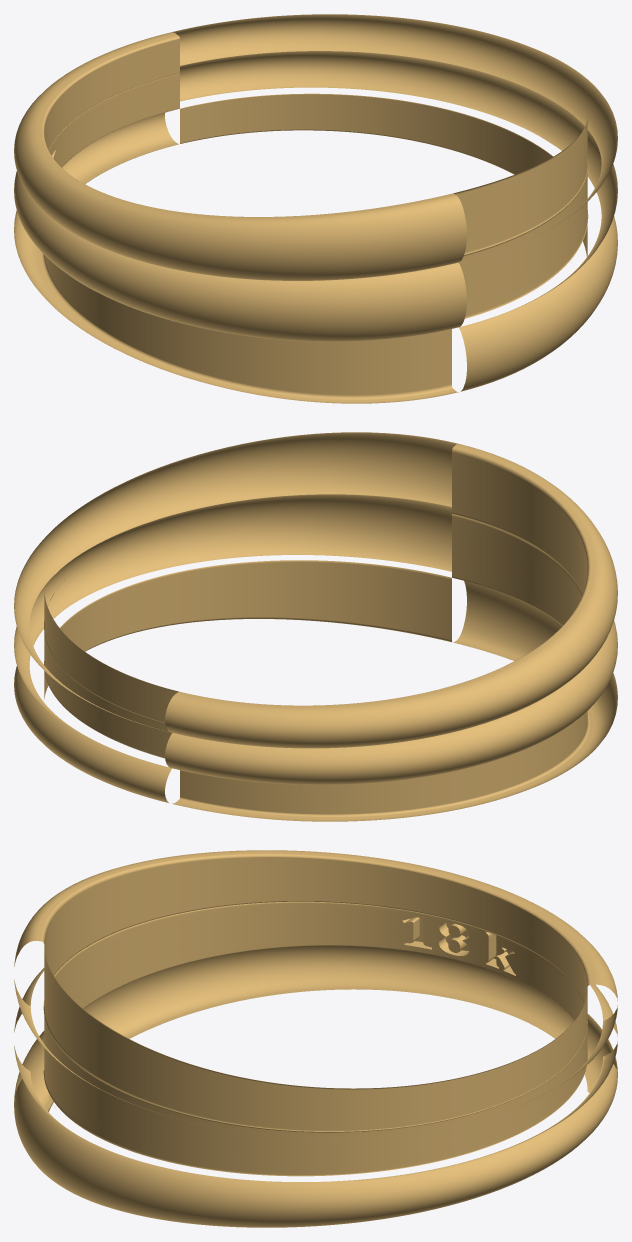
Rendered from anillo3.glb.
3 views of the same model, one above another, from view 1: azimuth 30°, elevation 25°; view 2: azimuth 150°, elevation 25°; view 3: azimuth 270°, elevation 25° (orthographic).
Parts seen in each view (by area): view 1: Ring; view 2: Ring; view 3: Ring.
Boxes of the visible parts, x1=… form: Ring: x1=14, y1=14, x2=617, y2=403; Ring: x1=14, y1=432, x2=617, y2=821; Ring: x1=14, y1=850, x2=617, y2=1227.
Bounding box in the file's own units: 20.5 × 7.34 × 20.5.
